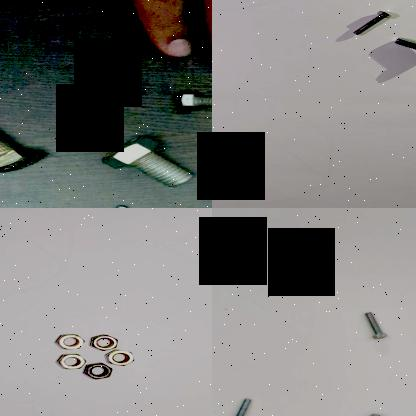Bolts: (95, 134, 196, 190), (0, 110, 49, 176), (344, 7, 402, 35), (173, 84, 212, 116), (359, 310, 393, 340), (223, 392, 259, 416), (387, 32, 416, 60), (360, 411, 416, 416)
NUTS: (53, 330, 89, 350), (81, 361, 115, 382), (53, 351, 92, 369), (88, 330, 119, 352), (104, 348, 139, 366)
